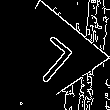L_SW: (17, 33, 75, 92)
